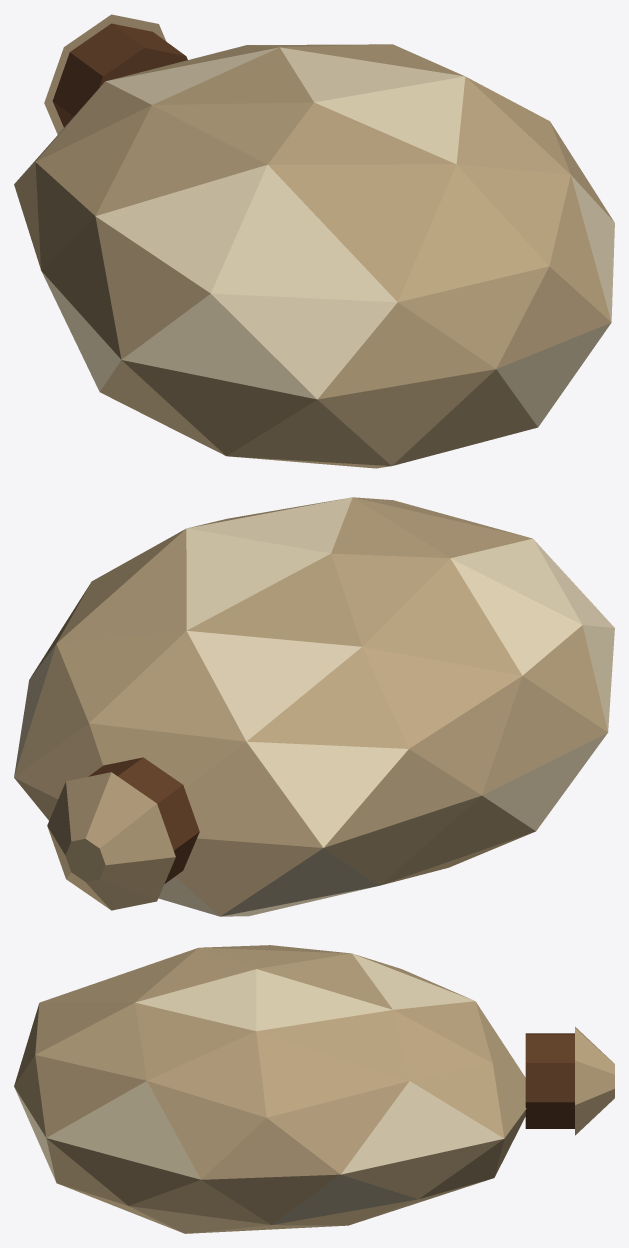
Rendered from GrainSack.fbx.
3 views of the same model, one above another, from view 1: azimuth 30°, elevation 25°; view 2: azimuth 150°, elevation 25°; view 3: azimuth 270°, elevation 25° (orthographic). The views are drawn at different scales.
Parts seen in each view (by area): view 1: GrainSack; view 2: GrainSack; view 3: GrainSack.
Part boxes in pixels (x1,y1,x2,y2): GrainSack: [14, 14, 614, 468]; GrainSack: [14, 497, 614, 916]; GrainSack: [14, 945, 614, 1233].
Bounding box in the file's own units: 2.5 × 1.5 × 3.5.
